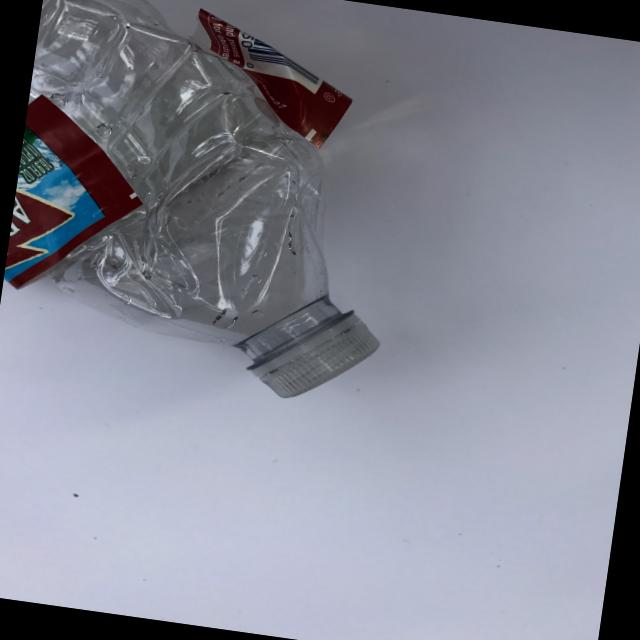Plastic: (0, 0, 456, 433)
